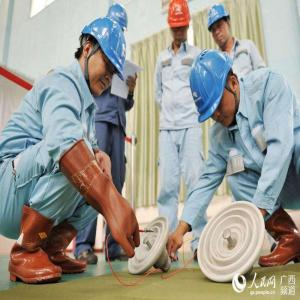blue: (189, 50, 239, 129), (80, 17, 128, 96), (208, 5, 231, 48)
red: (168, 1, 190, 47)
